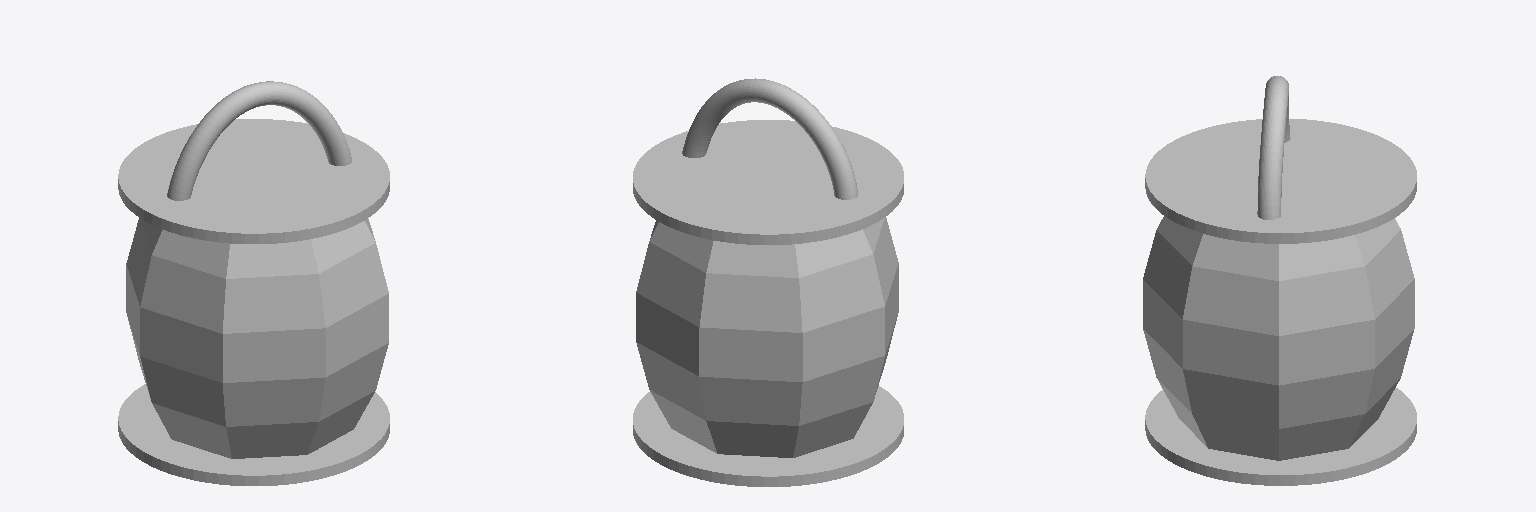
The model's file is lantern.obj.
3 renders of one model, left to right at view 1: azimuth 30°, elevation 25°; view 2: azimuth 150°, elevation 25°; view 3: azimuth 270°, elevation 25°, orthographic.
Visible parts, largest first — view 1: Cylinder_Cylinder.003, Cylinder.002, Cylinder.001, NurbsPath_NurbsPath.001; view 2: Cylinder_Cylinder.003, Cylinder.002, Cylinder.001, NurbsPath_NurbsPath.001; view 3: Cylinder_Cylinder.003, Cylinder.002, Cylinder.001, NurbsPath_NurbsPath.001.
Boxes of the visible parts, x1=… form: Cylinder_Cylinder.003: x1=126, y1=218, x2=388, y2=458; Cylinder.002: x1=118, y1=119, x2=389, y2=243; Cylinder.001: x1=118, y1=384, x2=389, y2=485; NurbsPath_NurbsPath.001: x1=167, y1=81, x2=351, y2=200; Cylinder_Cylinder.003: x1=636, y1=217, x2=898, y2=457; Cylinder.002: x1=633, y1=120, x2=903, y2=244; Cylinder.001: x1=633, y1=386, x2=903, y2=486; NurbsPath_NurbsPath.001: x1=682, y1=78, x2=857, y2=199; Cylinder_Cylinder.003: x1=1143, y1=216, x2=1414, y2=460; Cylinder.002: x1=1145, y1=119, x2=1416, y2=243; Cylinder.001: x1=1145, y1=388, x2=1416, y2=485; NurbsPath_NurbsPath.001: x1=1257, y1=76, x2=1290, y2=219.
Bounding box in the file's own units: 2.02 × 2.81 × 2.02.